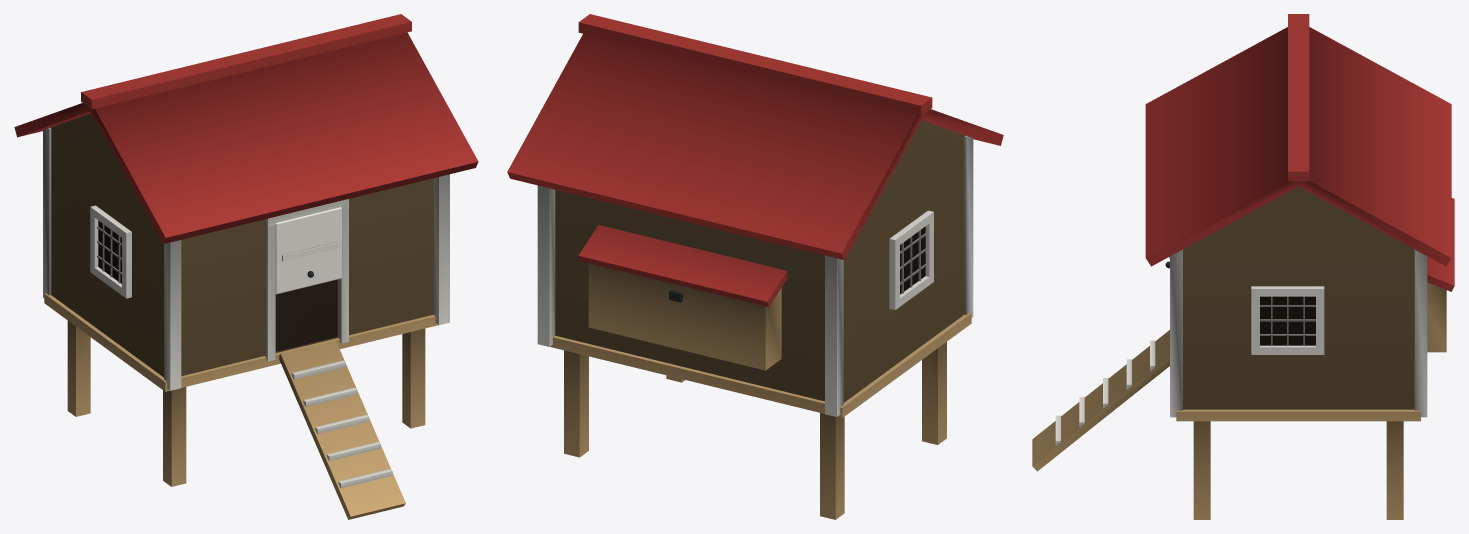
File: coop.glb
The picture shows the model from 3 angles, left to right: view 1: azimuth 30°, elevation 25°; view 2: azimuth 150°, elevation 25°; view 3: azimuth 270°, elevation 25°; orthographic projection. The views are drawn at different scales.
Visible parts, largest first — view 1: coop, hatch; view 2: coop; view 3: coop.
Boxes of the visible parts, box(x1,y1,x2,y2) form: coop: box(14, 14, 478, 519); hatch: box(275, 207, 341, 294); coop: box(507, 14, 1003, 519); coop: box(1032, 14, 1454, 519).
Bounding box in the file's own units: 1.74 × 1.88 × 1.97.
